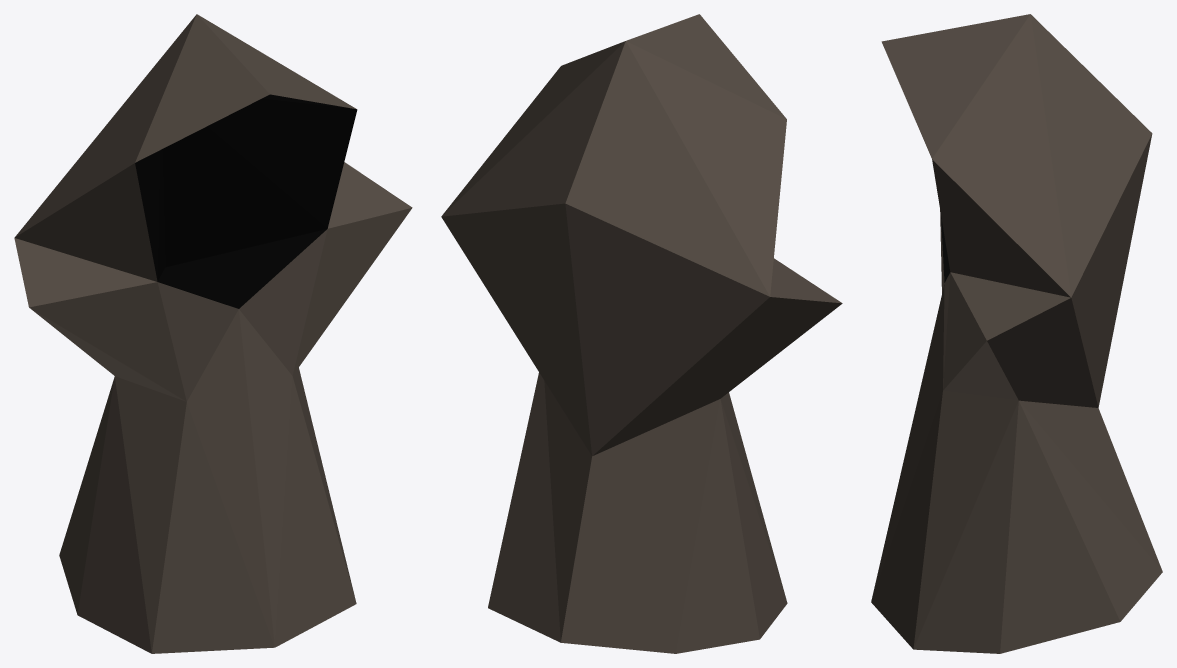
Rendered from Enemy_Necromancer_Body.fbx.
3 views of the same model, side by side, from view 1: azimuth 30°, elevation 25°; view 2: azimuth 150°, elevation 25°; view 3: azimuth 270°, elevation 25° (orthographic). The views are drawn at different scales.
Visible parts, largest first — view 1: Enemy_Necromancer_Body; view 2: Enemy_Necromancer_Body; view 3: Enemy_Necromancer_Body.
Part boxes in pixels (x1,y1,x2,y2): Enemy_Necromancer_Body: (14,14,412,653); Enemy_Necromancer_Body: (441,14,842,653); Enemy_Necromancer_Body: (871,14,1162,653).
Bounding box in the file's own units: 168 × 240 × 108.
